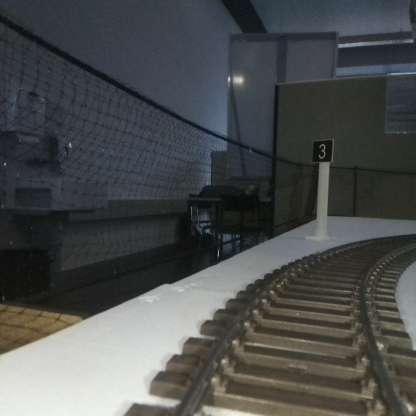black-info-3: (313, 140, 332, 239)
